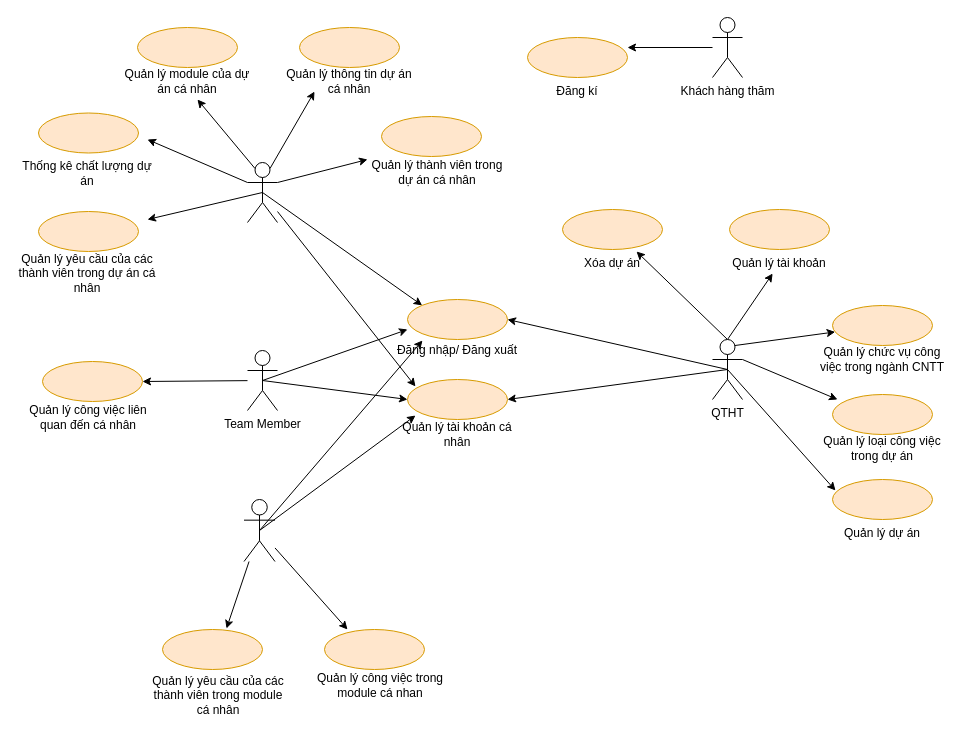
This 969x734 diagram has some shape labels left out. Here are the shapes that lost their labels. From the top down, the centre of each, then its label:
At pixel 262 192: "PM".
At pixel 259 530: "Team Lead".
